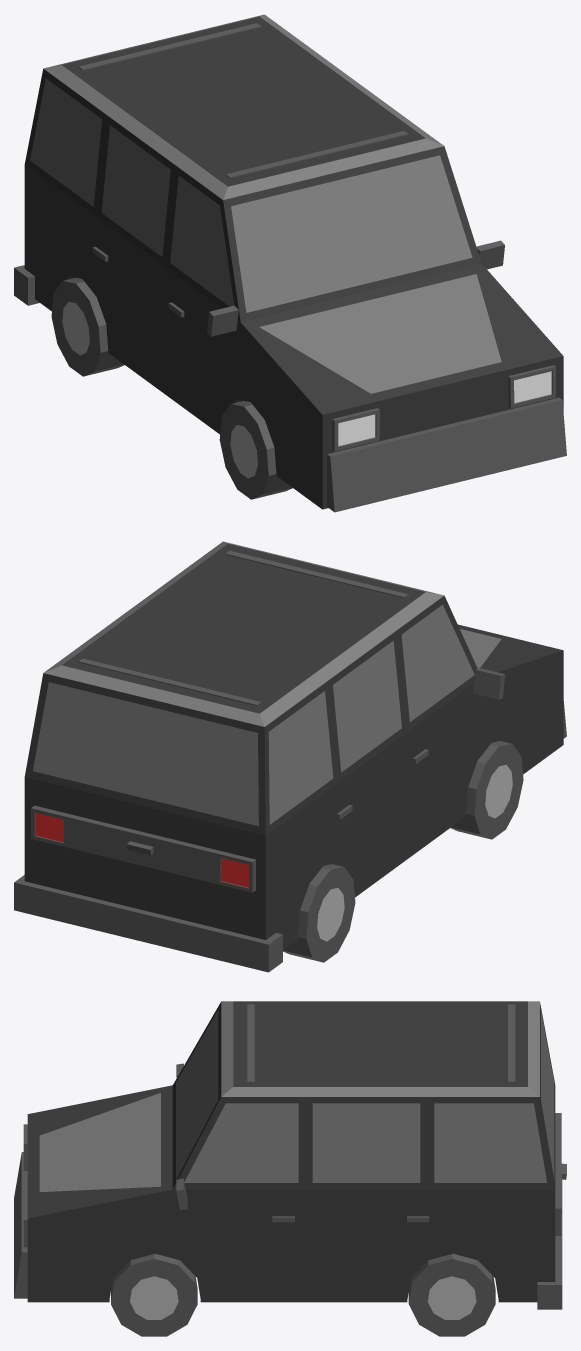
The model's file is SM_Car_08_03.FBX.
The picture shows the model from 3 angles, top to bottom: view 1: azimuth 30°, elevation 25°; view 2: azimuth 150°, elevation 25°; view 3: azimuth 270°, elevation 25°; orthographic projection. The views are drawn at different scales.
Visible parts, largest first — view 1: SM_Car_08_03, SM_Wheel_RBack001, SM_Wheel_LFront002; view 2: SM_Car_08_03, SM_Wheel_LFront002, SM_Wheel_RBack001; view 3: SM_Car_08_03, SM_Wheel_LBack001, SM_Wheel_LFront001.
Part boxes in pixels (<box>): SM_Car_08_03: <box>14,14,566,512</box>; SM_Wheel_RBack001: <box>51,277,124,376</box>; SM_Wheel_LFront002: <box>219,401,292,499</box>; SM_Car_08_03: <box>14,541,566,972</box>; SM_Wheel_LFront002: <box>450,741,523,839</box>; SM_Wheel_RBack001: <box>283,864,355,962</box>; SM_Car_08_03: <box>14,1001,566,1309</box>; SM_Wheel_LBack001: <box>408,1253,495,1336</box>; SM_Wheel_LFront001: <box>111,1253,197,1336</box>.
Size of the model in its own units: 1.7 by 1.5 by 3.15.
Materials: 1 (1 with a texture image).
